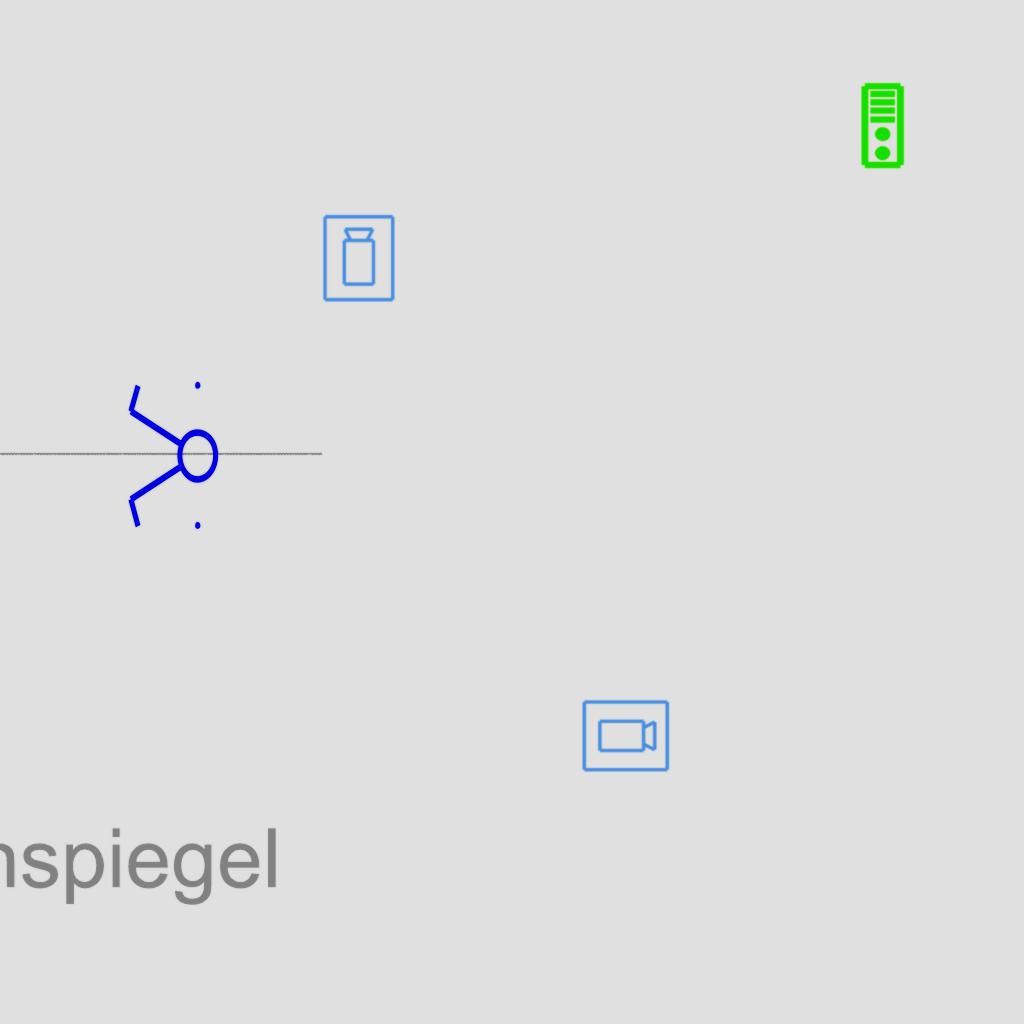Gegensprechanlage_mit_Video: (860, 82, 907, 170)
KFO_Kamera_mit_Festobjektiv: (321, 213, 398, 304), (580, 698, 671, 775)
Serienschalter: (124, 373, 220, 541)
